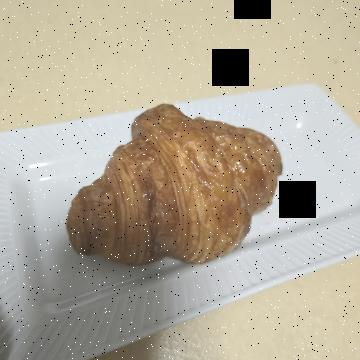croissant: (97, 70, 274, 306)
